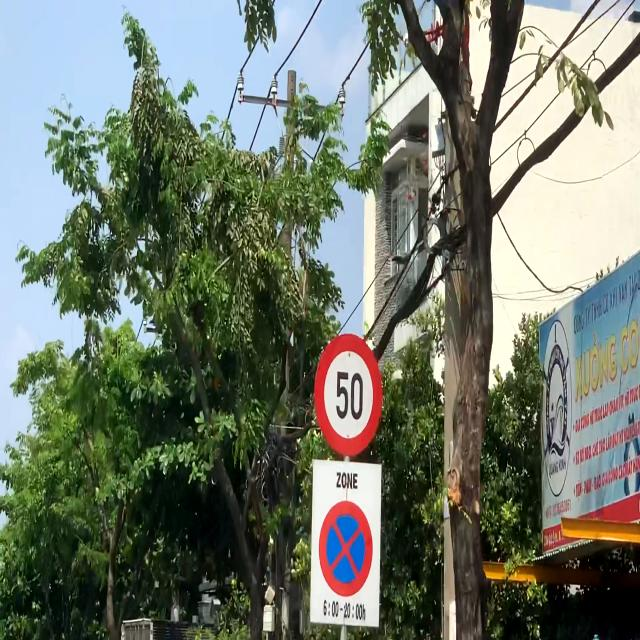P.127: (311, 330, 383, 459)
P.130: (317, 498, 374, 600)
